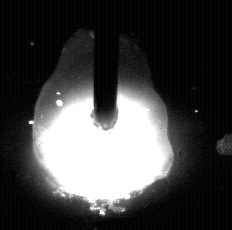arame: (94, 0, 119, 131)
poca: (31, 0, 171, 230)
